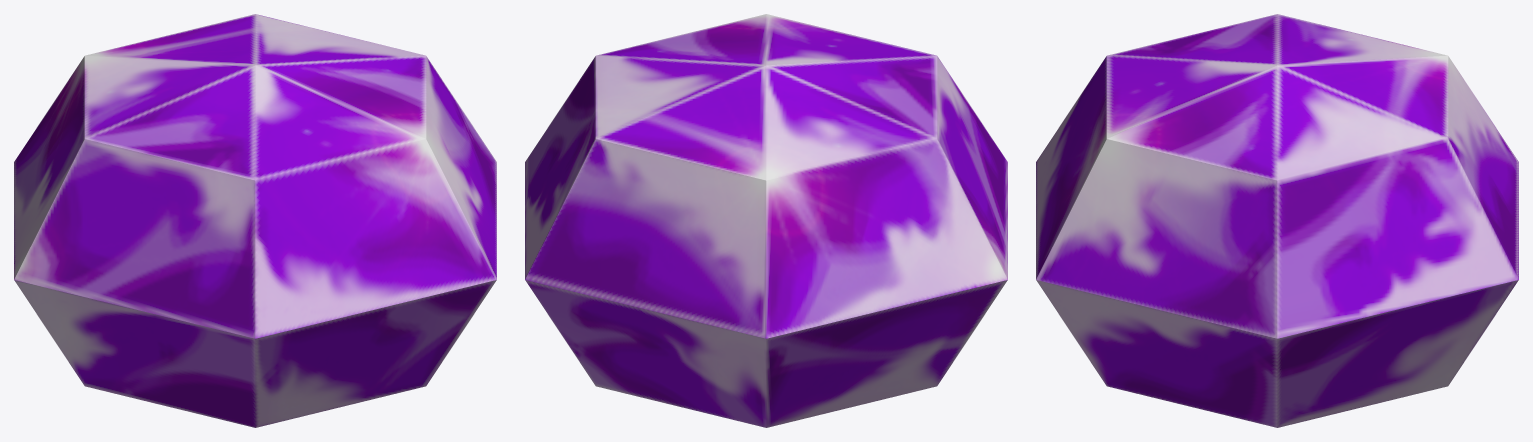
The model's file is stone_purple_002.fbx.
3 renders of one model, left to right at view 1: azimuth 30°, elevation 25°; view 2: azimuth 150°, elevation 25°; view 3: azimuth 270°, elevation 25°, orthographic.
Parts seen in each view (by area): view 1: stone; view 2: stone; view 3: stone.
Boxes of the visible parts, x1,y1,x2,y2 form: stone: [14, 14, 496, 427]; stone: [525, 14, 1007, 427]; stone: [1036, 14, 1518, 427].
Bounding box in the file's own units: 6.44 × 3.96 × 5.57.
